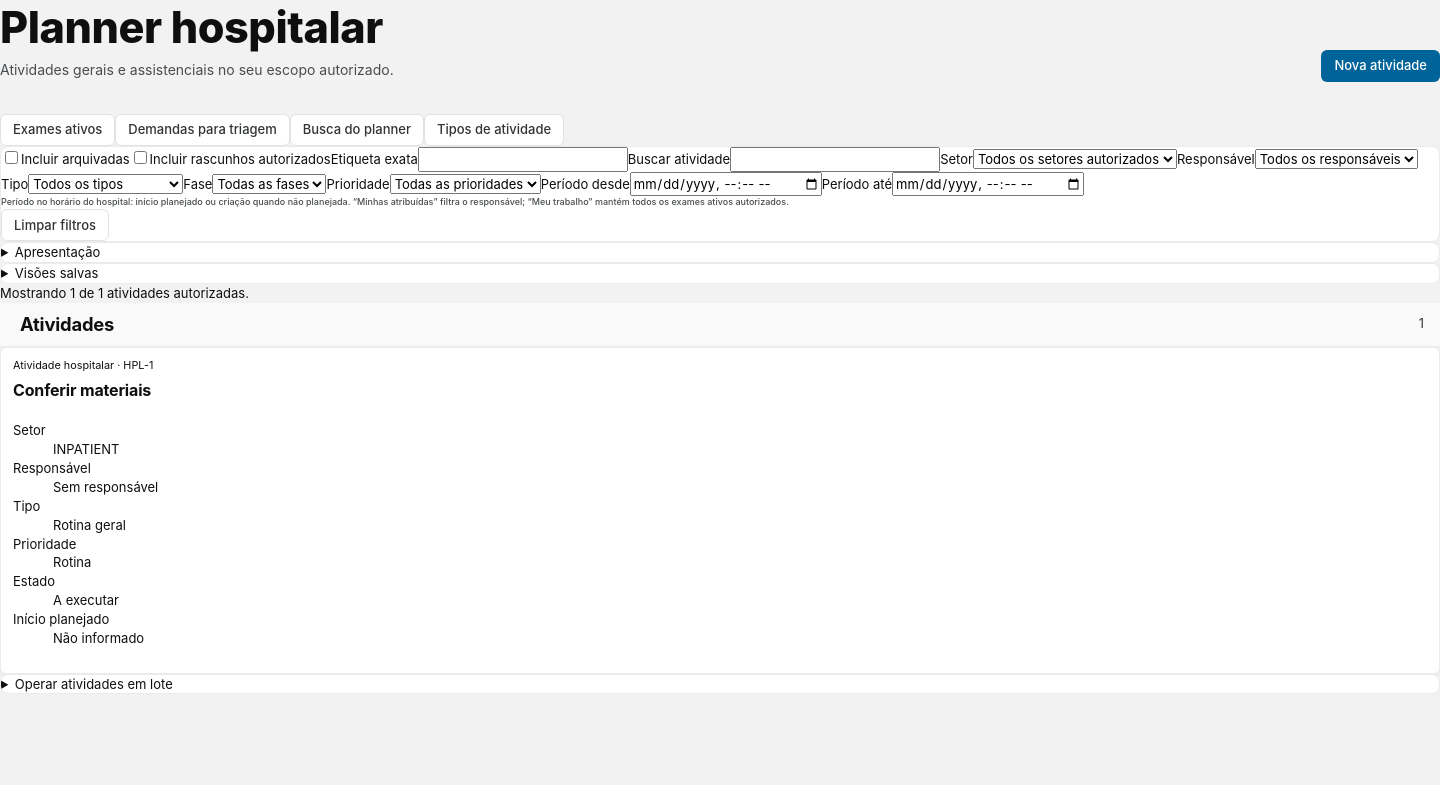
it: keeps one batch panel and a working creation form after the search filter rerenders the planner
Expected: the link "Conferir materiais" is shown, top-left (13, 380), bottom-right (151, 400)
Type "filtro sem correspondência" into the field labelled "Buscar atividade" at (835,159), box top-left (730, 147), bottom-right (940, 172)
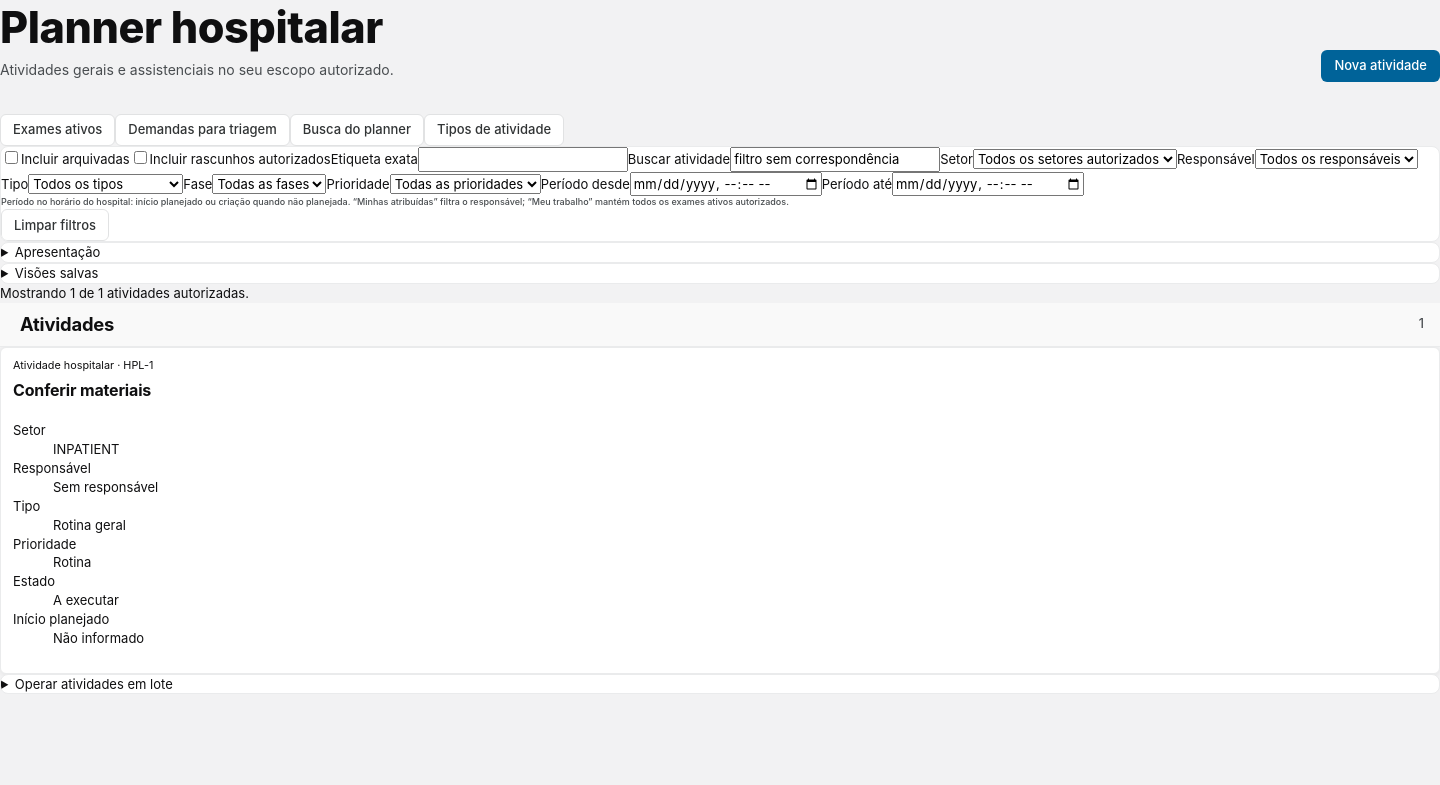
Expected: the number of headings "Operar atividades em lote" is 1, top-left (15, 676), bottom-right (173, 692)
Expected: the number of headings "Visões salvas" is 1, top-left (15, 265), bottom-right (98, 281)
Click the button "Nova atividade" at (1381,66), box top-left (1321, 50), bottom-right (1439, 82)
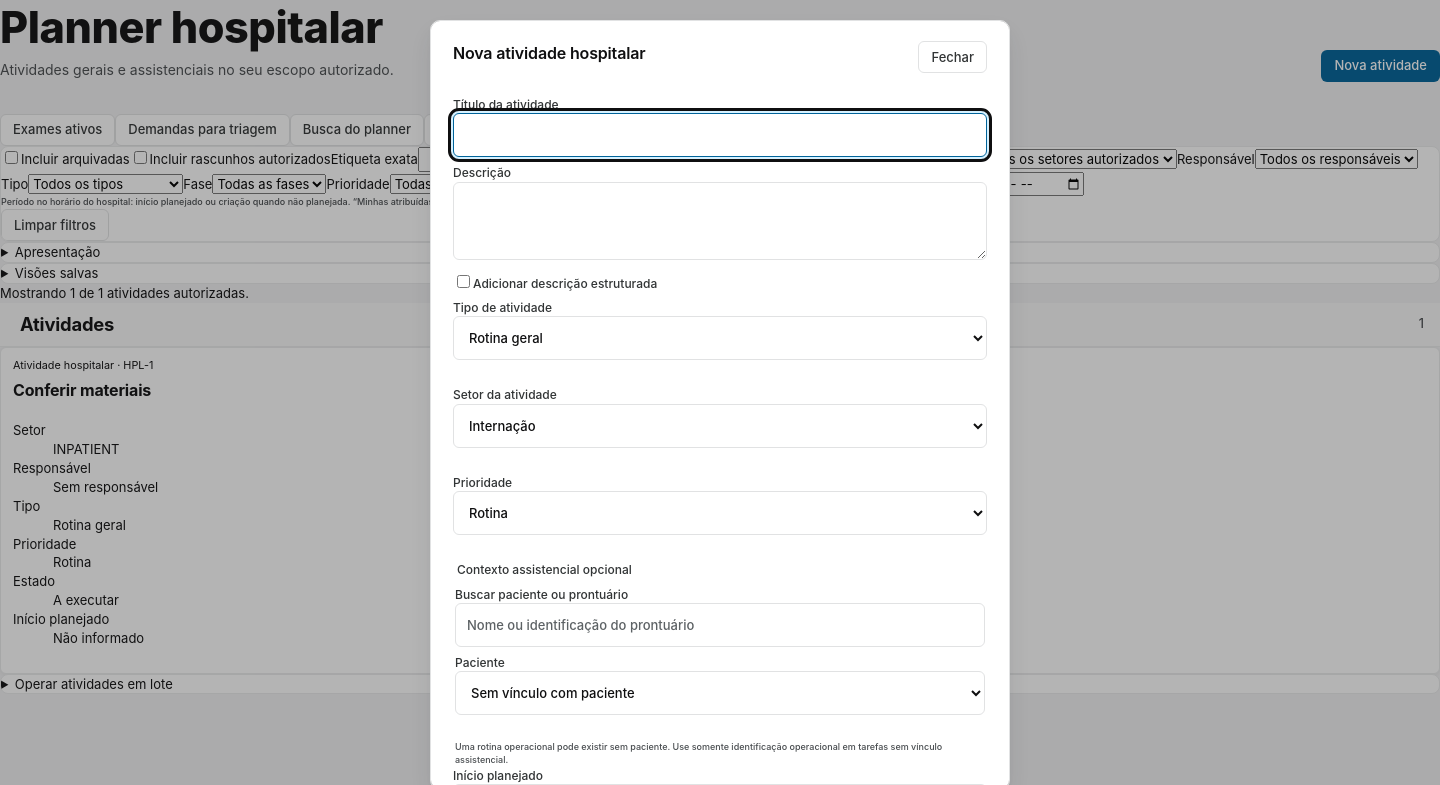
Type "Rotina após o filtro" into the field labelled "Título da atividade" at (720,135), box top-left (453, 113), bottom-right (987, 157)
(page scrolled)
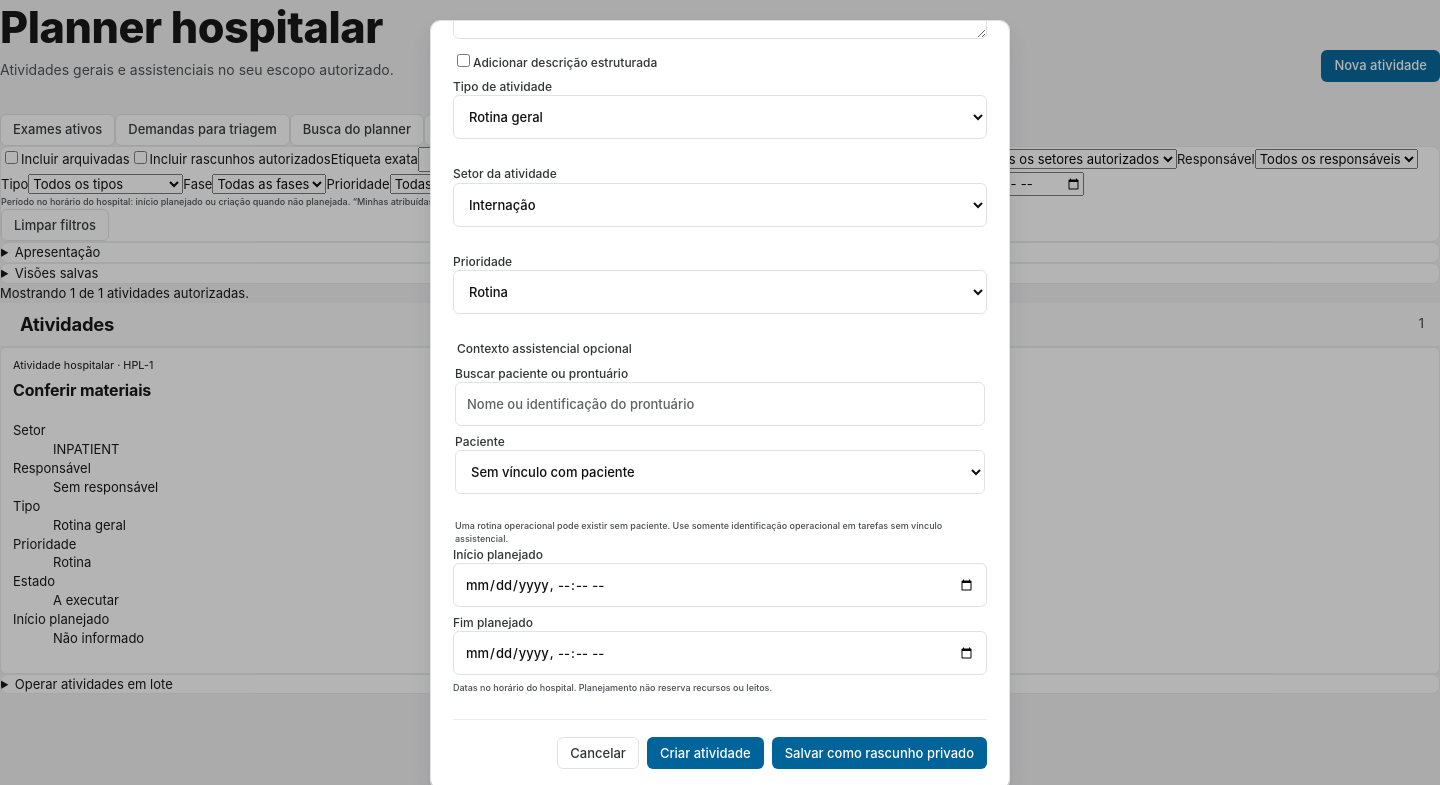
Click the button "Criar atividade" at (705,753), box top-left (647, 737), bottom-right (764, 769)
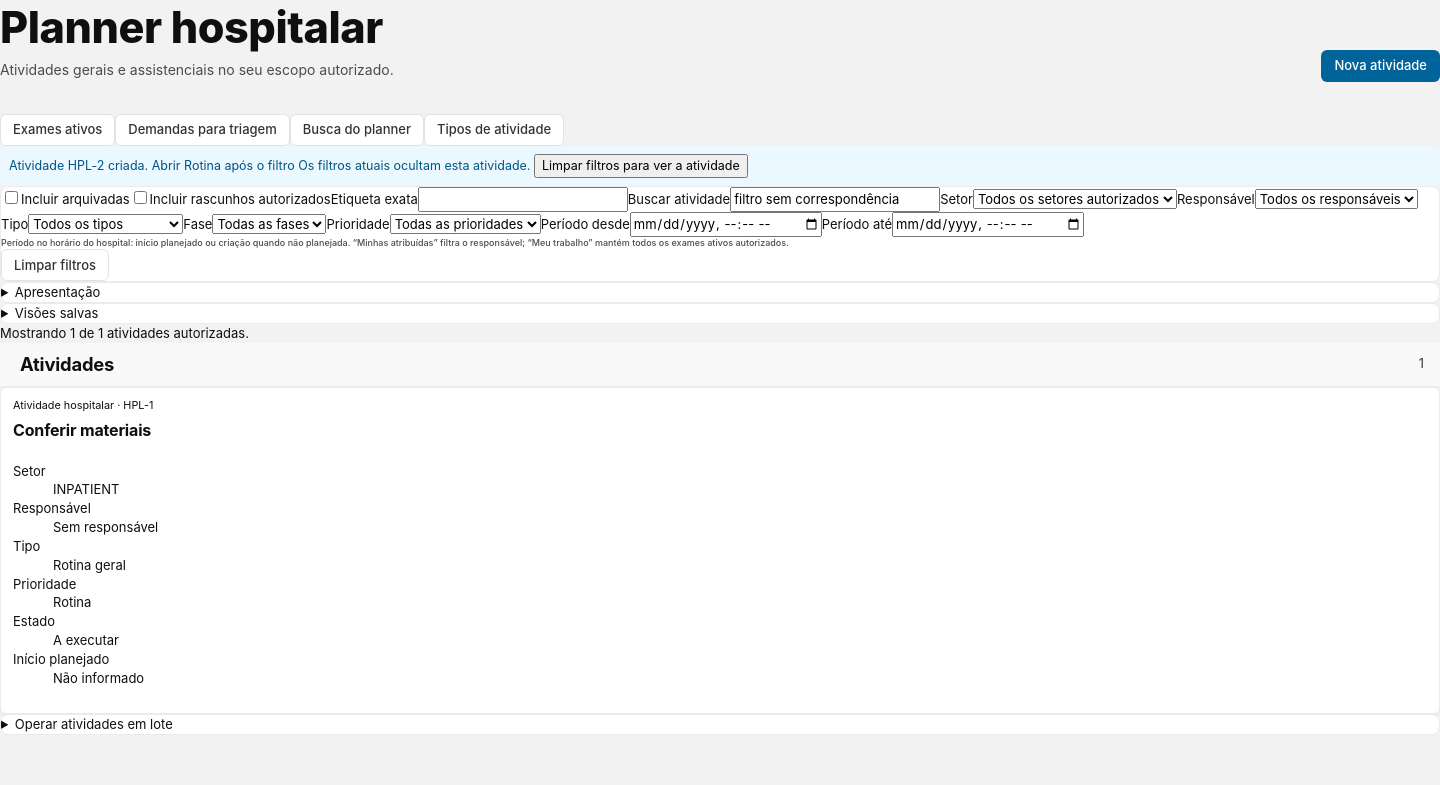
Expected: the heading "Nova atividade hospitalar" is not shown
Expected: the text "Os filtros atuais ocultam esta atividade" is shown, top-left (295, 158), bottom-right (534, 173)
